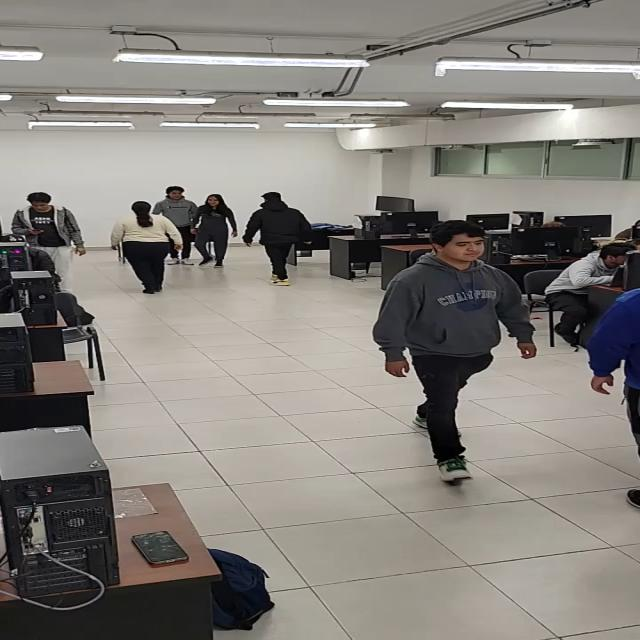Persona: (377, 222, 535, 488), (114, 202, 182, 290), (256, 190, 316, 286), (20, 188, 86, 275), (199, 194, 235, 273), (154, 181, 198, 227)
